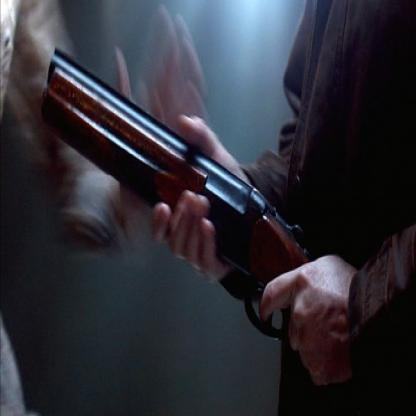Gun: (39, 35, 344, 364)
